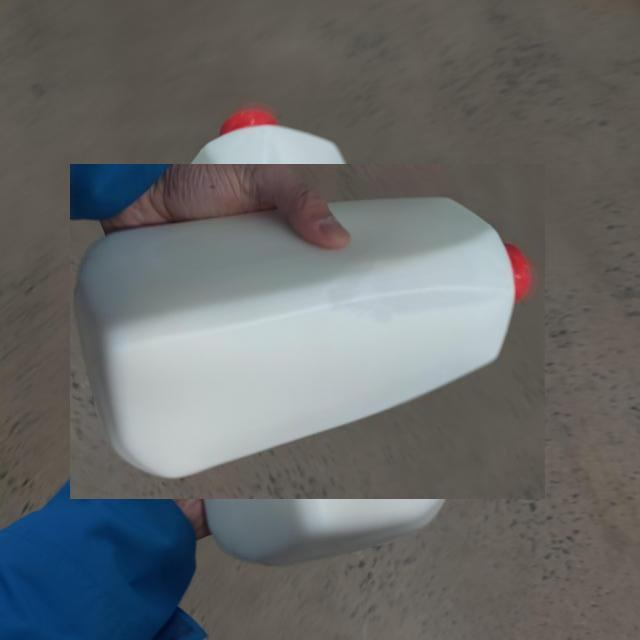Milk: (70, 164, 545, 499)
